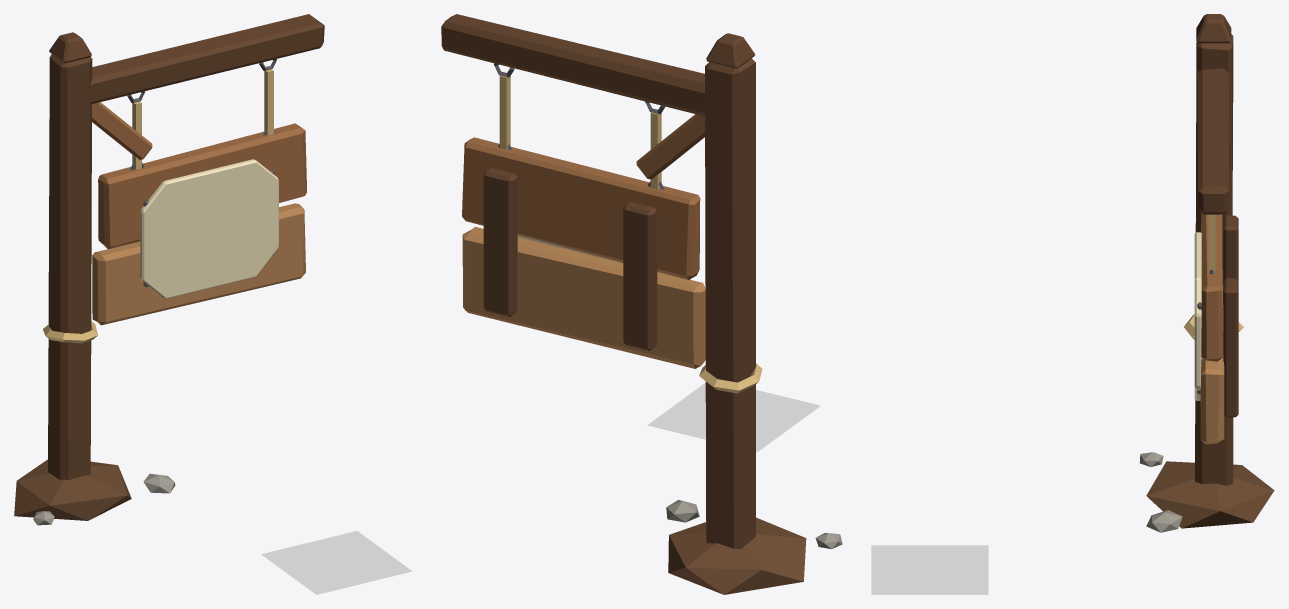
File: CropSign_Hanging.fbx
3 views of the same model, side by side, from view 1: azimuth 30°, elevation 25°; view 2: azimuth 150°, elevation 25°; view 3: azimuth 270°, elevation 25° (orthographic). The views are drawn at different scales.
Parts seen in each view (by area): view 1: Post.001, Board.001, Icon.001; view 2: Post.001, Board.001, Icon.001; view 3: Post.001, Board.001, Icon.001.
Part boxes in pixels (<box>): Post.001: <box>14,14,324,525</box>; Board.001: <box>92,69,306,325</box>; Icon.001: <box>261,531,412,594</box>; Post.001: <box>441,14,842,594</box>; Board.001: <box>462,75,705,368</box>; Icon.001: <box>647,383,820,452</box>; Post.001: <box>1139,14,1274,532</box>; Board.001: <box>1194,213,1238,444</box>; Icon.001: <box>871,545,988,594</box>.
Size of the model in its own units: 0.6205 by 0.8725 by 0.6533.
